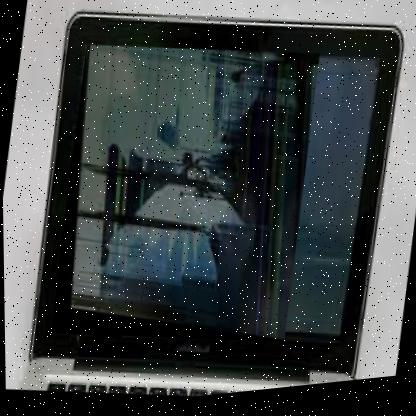crack: (45, 28, 322, 368)
lines: (217, 52, 316, 342), (112, 235, 263, 359)
